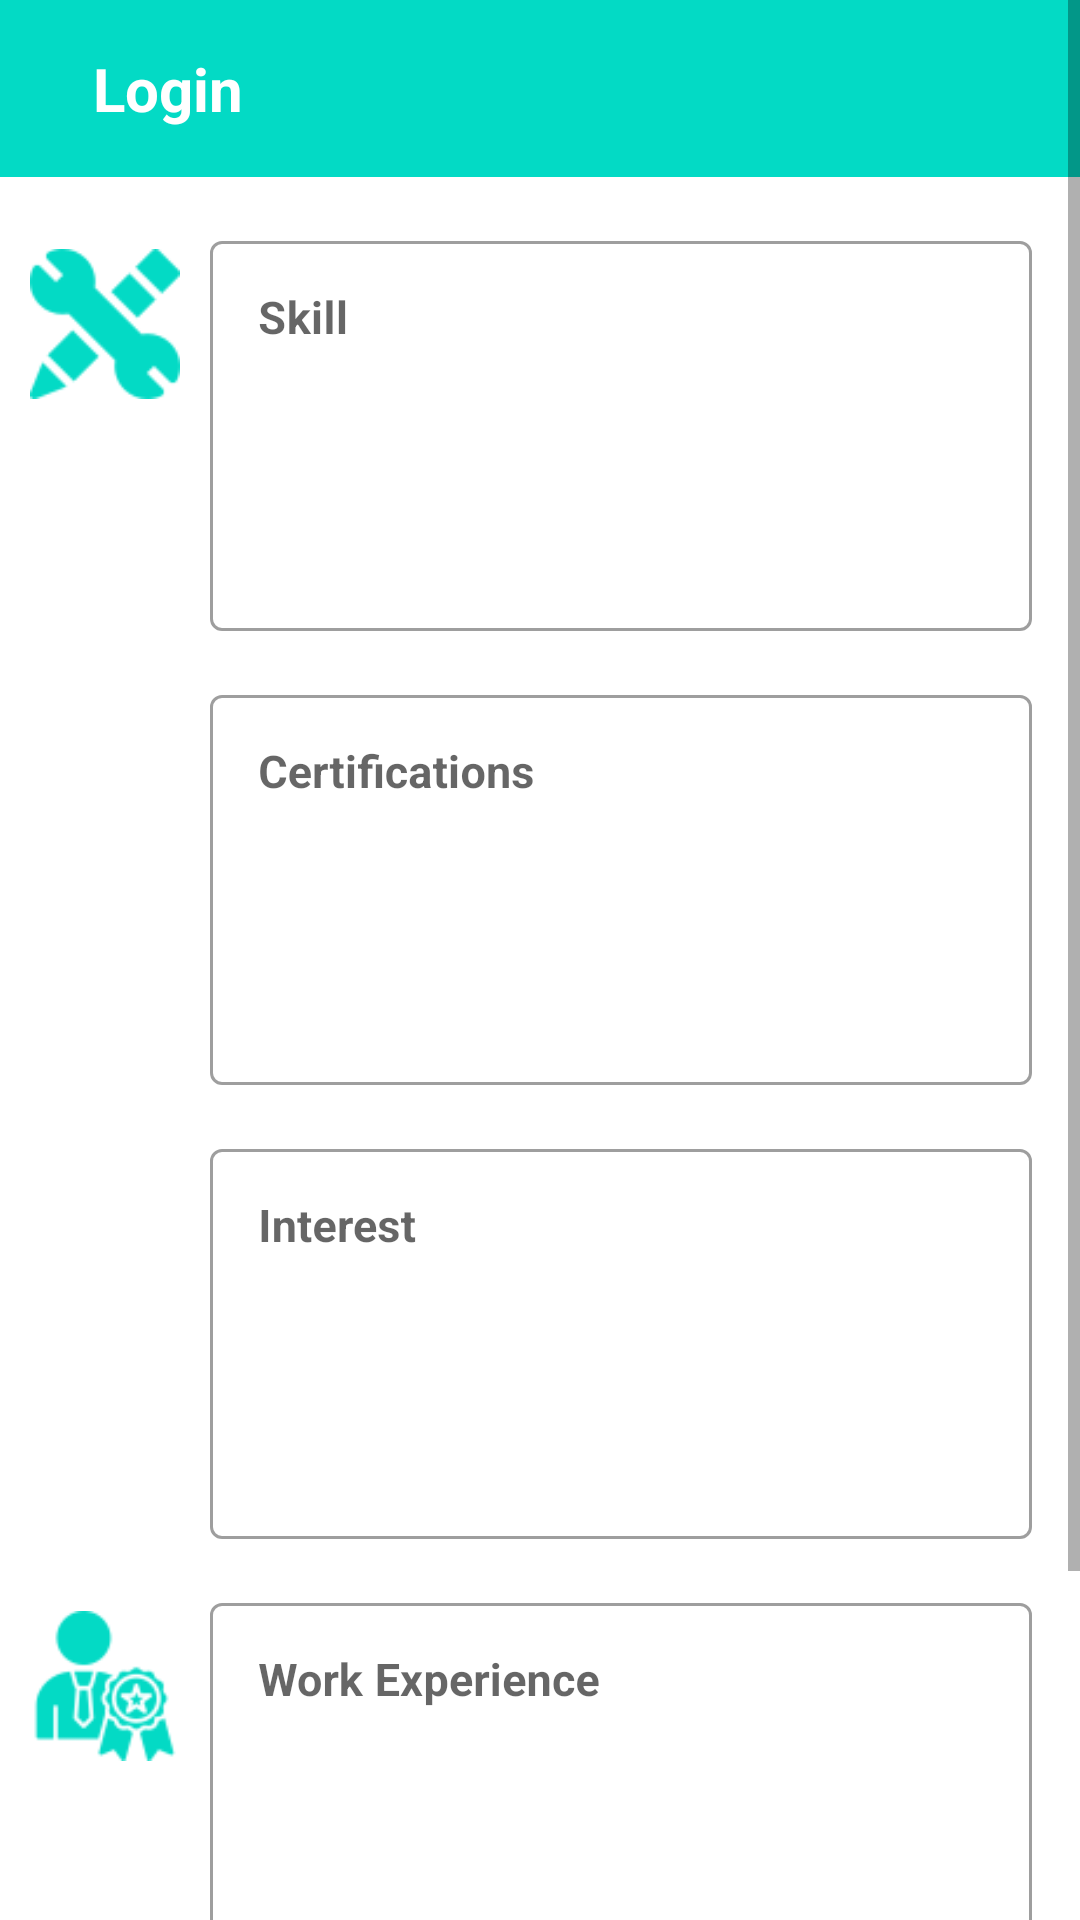

Icons on this 1080 × 1920 Android screen, each with its box as (x1, y1, x2, y2):
experience: (34, 1611, 175, 1761)
skills: (30, 249, 180, 399)
